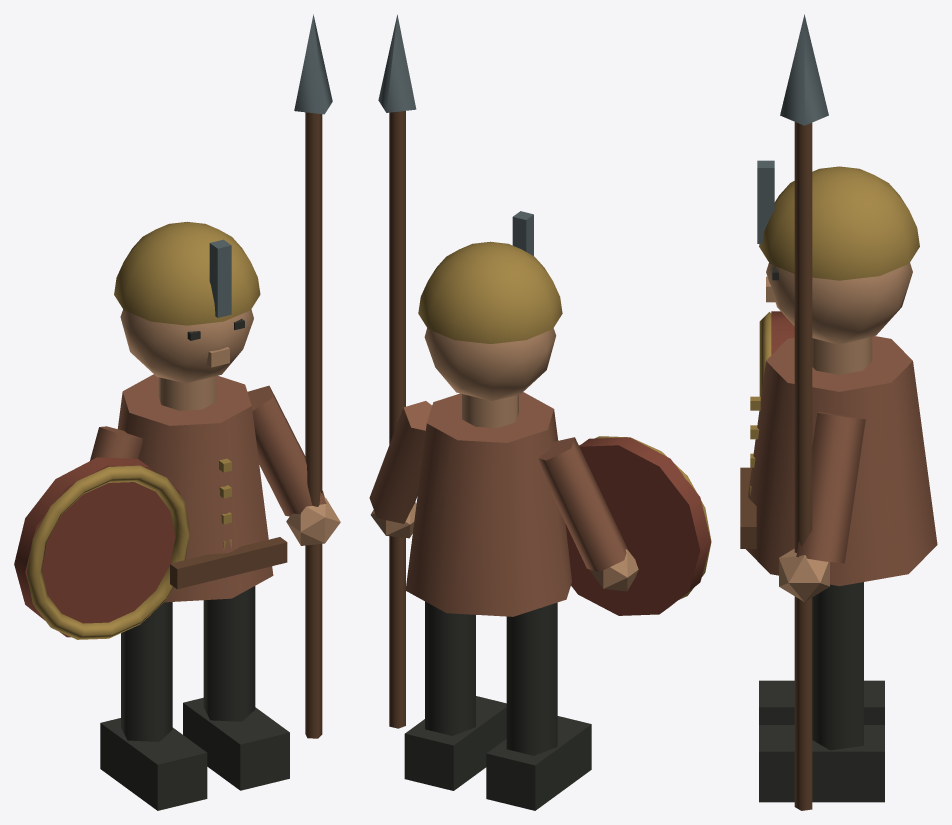
Rendered from custom-person-spearman.glb.
3 renders of one model, left to right at view 1: azimuth 30°, elevation 25°; view 2: azimuth 150°, elevation 25°; view 3: azimuth 270°, elevation 25°, orthographic. The views are drawn at different scales.
Visible parts, largest first — view 1: custom-person-spearman; view 2: custom-person-spearman; view 3: custom-person-spearman.
Boxes of the visible parts, bbox=[...] form: custom-person-spearman: bbox=[14, 14, 340, 810]; custom-person-spearman: bbox=[369, 14, 711, 810]; custom-person-spearman: bbox=[740, 14, 937, 810].
Size of the model in its own units: 1 by 2.18 by 0.4799.
